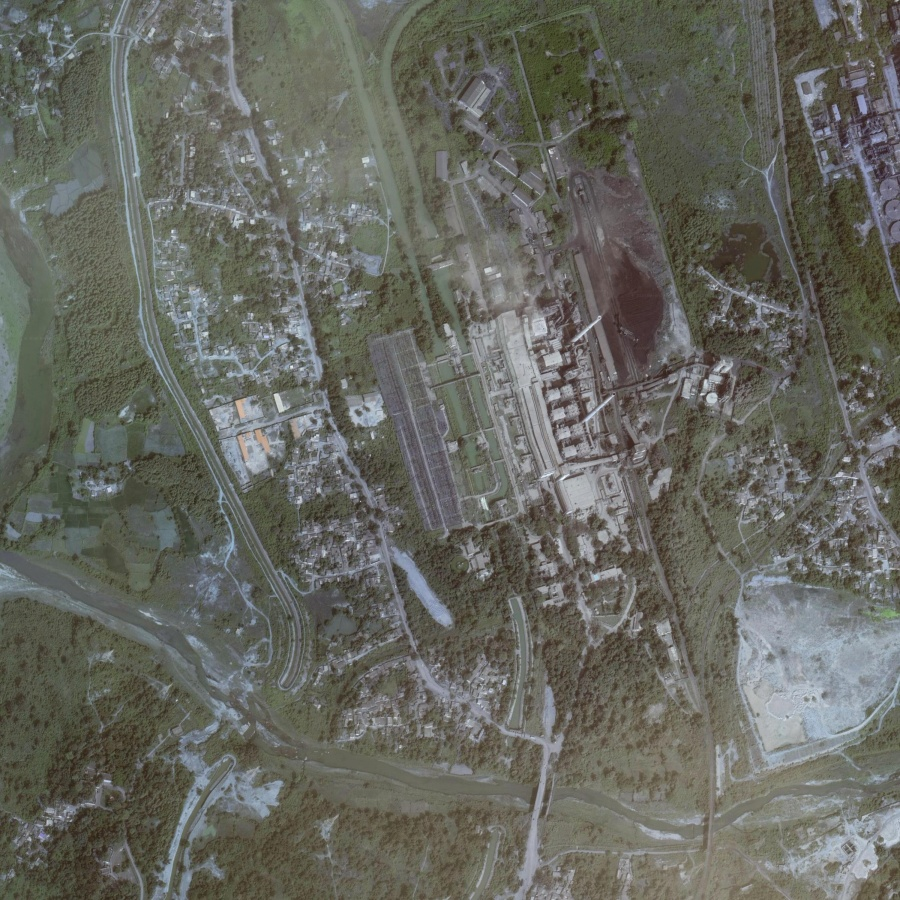PowerPlant: (477, 160, 674, 458)
